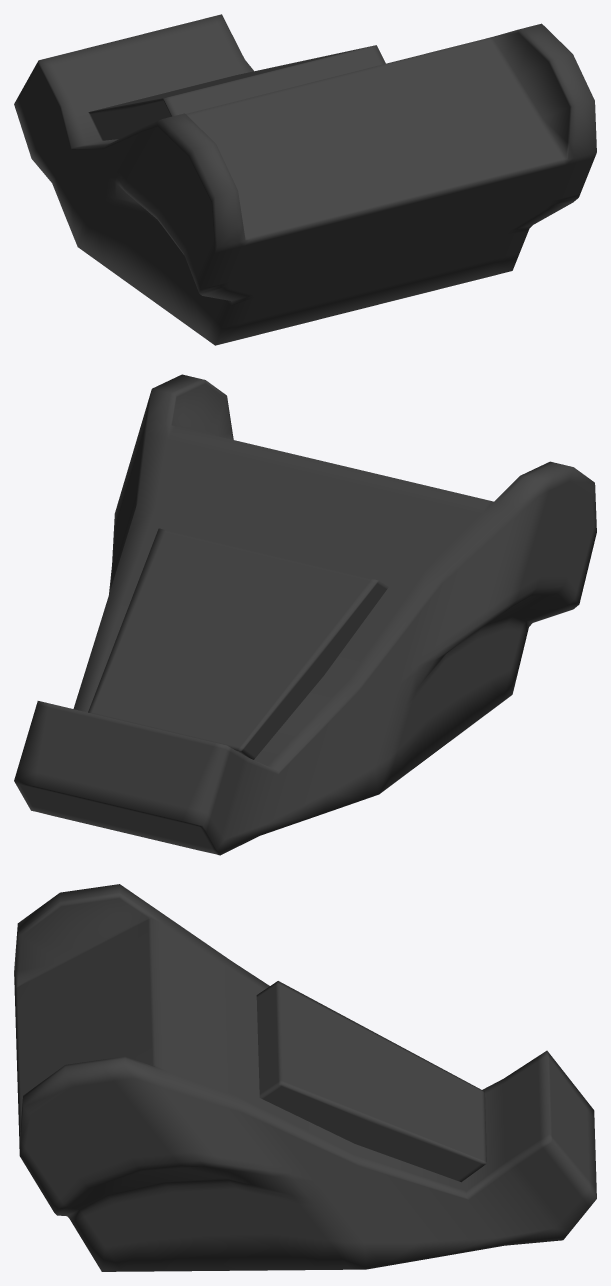
File: finger.dae
3 views of the same model, one above another, from view 1: azimuth 30°, elevation 25°; view 2: azimuth 150°, elevation 25°; view 3: azimuth 270°, elevation 25° (orthographic). The views are drawn at different scales.
Parts seen in each view (by area): view 1: finger; view 2: finger; view 3: finger.
Part boxes in pixels (x1,y1,x2,y2): finger: (14, 14, 596, 345); finger: (14, 374, 596, 855); finger: (14, 884, 596, 1271).
Size of the model in its own units: 1.05 by 1.41 by 0.5983.
Materials: 1 (1 with a texture image).
